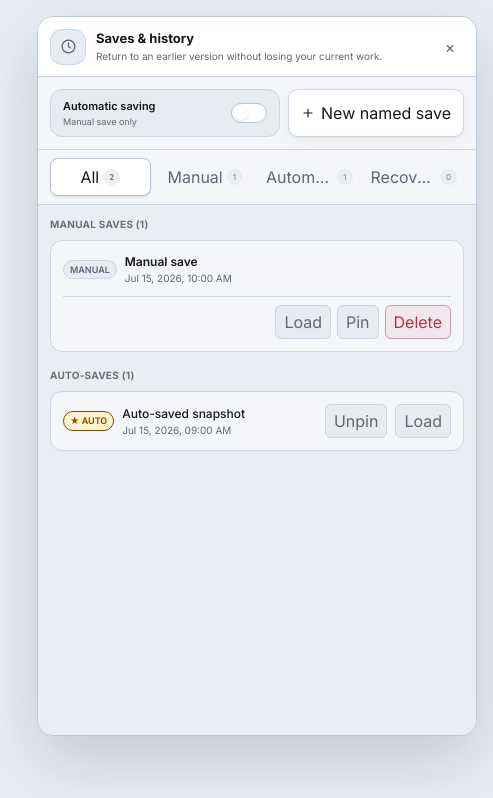
Scenario: HistoryPanel save sources and pins › filters the timeline without mixing manual and automatic saves
The image size is (493, 798).
Expected: the text "Manual save" is shown, top-left (125, 254), bottom-right (198, 269)
Click the button "Manual 1" at (205, 177), box top-left (154, 158), bottom-right (255, 196)
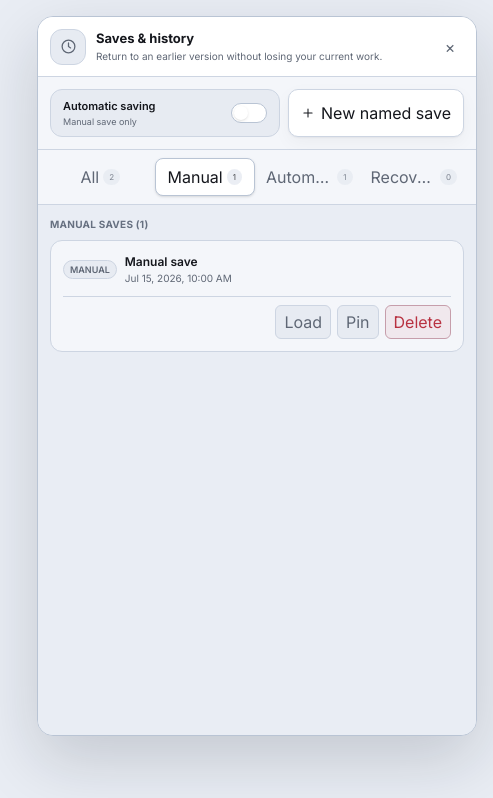
Expected: the text "Manual save" is shown, top-left (125, 254), bottom-right (198, 269)
Expected: the text "Auto-saved snapshot" is gone
Click the button "Automatic 1" at (309, 177), box top-left (259, 158), bottom-right (360, 196)
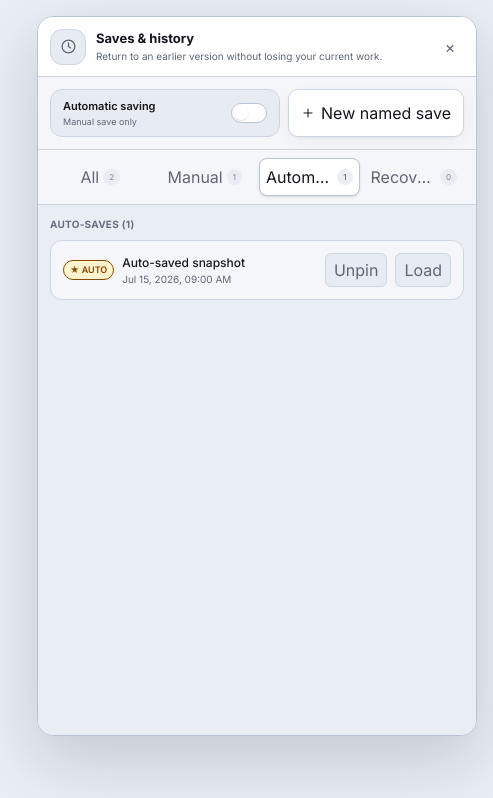
Expected: the text "Auto-saved snapshot" is shown, top-left (122, 254), bottom-right (245, 270)
